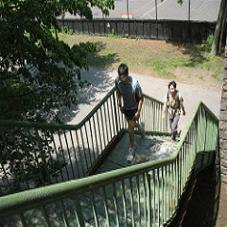Animal: (55, 157, 152, 227)
